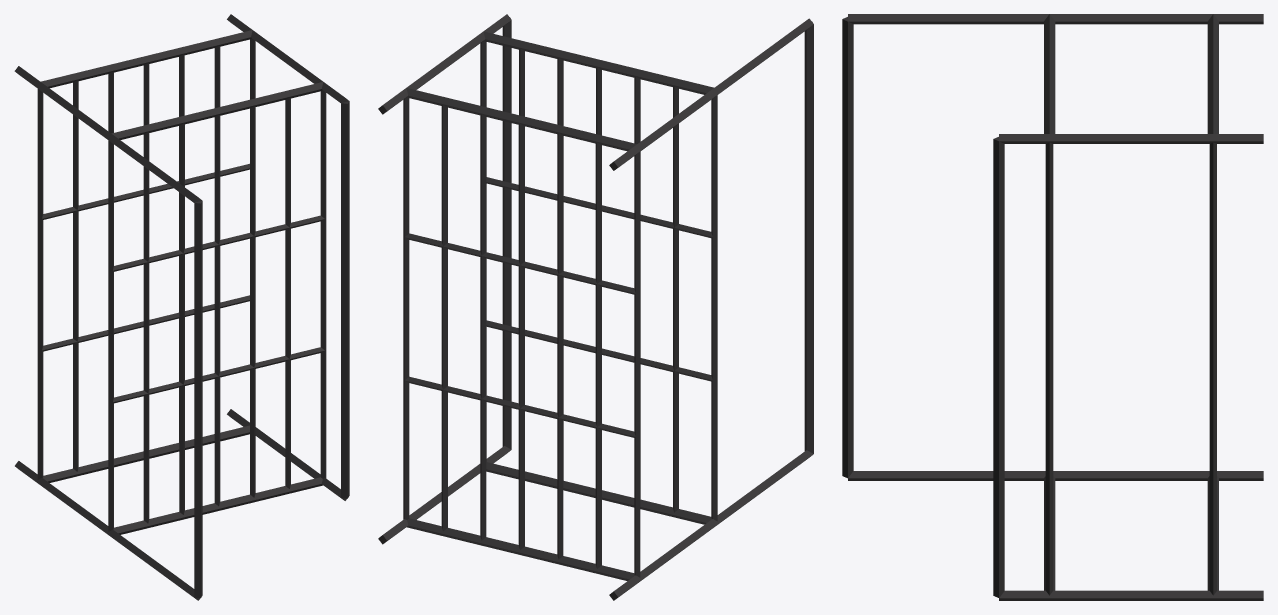
Rendered from pz_g019_small_black_display.obj.
3 renders of one model, left to right at view 1: azimuth 30°, elevation 25°; view 2: azimuth 150°, elevation 25°; view 3: azimuth 270°, elevation 25°, orthographic. The views are drawn at different scales.
Visible parts, largest first — view 1: wire_deck_side, wire_frame_side, wire_handle_side, wire_post_side; view 2: wire_deck_side, wire_frame_side, wire_handle_side, wire_post_side; view 3: wire_post_side, wire_handle_side, wire_deck_side, wire_frame_side.
Part boxes in pixels (x1=…): wire_deck_side: x1=37, y1=38, x2=326, y2=531; wire_frame_side: x1=41, y1=30, x2=324, y2=534; wire_handle_side: x1=194, y1=101, x2=349, y2=598; wire_post_side: x1=14, y1=14, x2=344, y2=599; wire_deck_side: x1=403, y1=40, x2=717, y2=577; wire_frame_side: x1=405, y1=31, x2=713, y2=580; wire_handle_side: x1=502, y1=20, x2=813, y2=453; wire_post_side: x1=383, y1=14, x2=813, y2=598; wire_post_side: x1=848, y1=14, x2=1263, y2=600; wire_handle_side: x1=842, y1=19, x2=1004, y2=597; wire_deck_side: x1=1045, y1=142, x2=1216, y2=595; wire_frame_side: x1=1044, y1=14, x2=1218, y2=590.
Bounding box in the file's own units: 0.468 × 0.818 × 0.669.
1 material, 1 textured.
